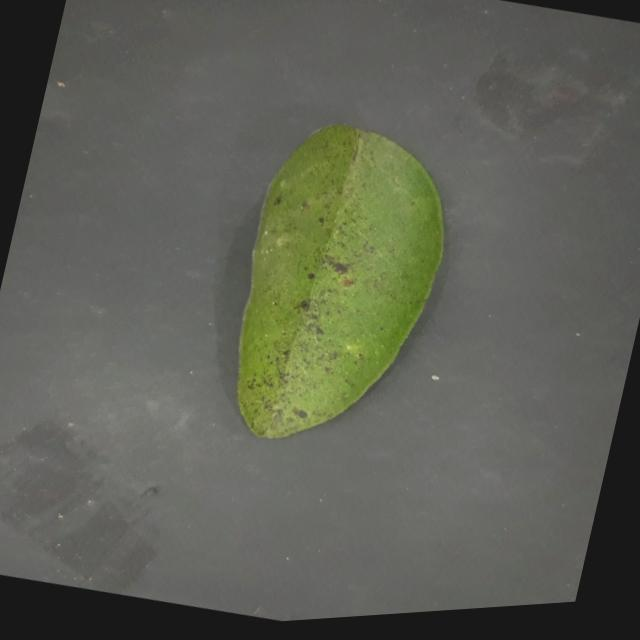greasy_spot: (236, 125, 441, 438)
